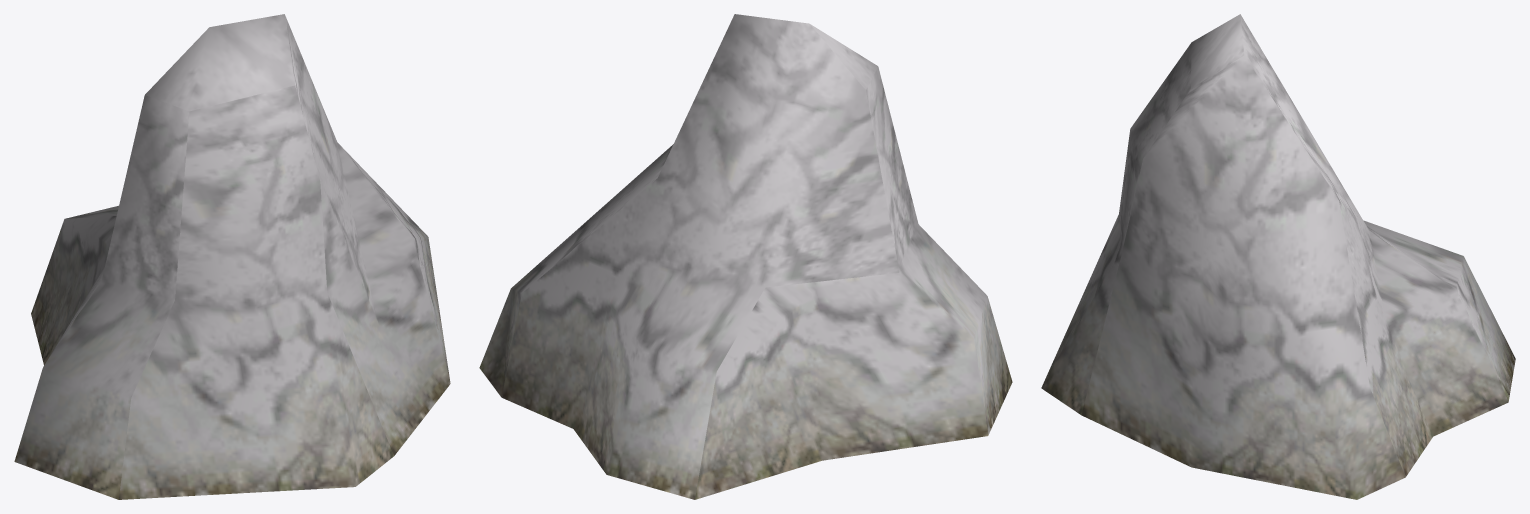
The model's file is general_obj_bigstone06_lod_01.glb.
3 views of the same model, side by side, from view 1: azimuth 30°, elevation 25°; view 2: azimuth 150°, elevation 25°; view 3: azimuth 270°, elevation 25° (orthographic). The views are drawn at different scales.
Parts seen in each view (by area): view 1: Sphere01fs; view 2: Sphere01fs; view 3: Sphere01fs.
Part boxes in pixels (bbox=[...]): Sphere01fs: bbox=[14, 14, 450, 499]; Sphere01fs: bbox=[479, 14, 1012, 499]; Sphere01fs: bbox=[1041, 14, 1515, 499].
Size of the model in its own units: 19.95 by 15.49 by 18.64.
1 material, 1 textured.
